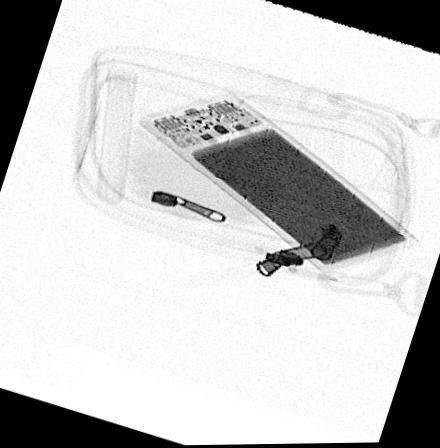Powerbank: (138, 93, 421, 270)
